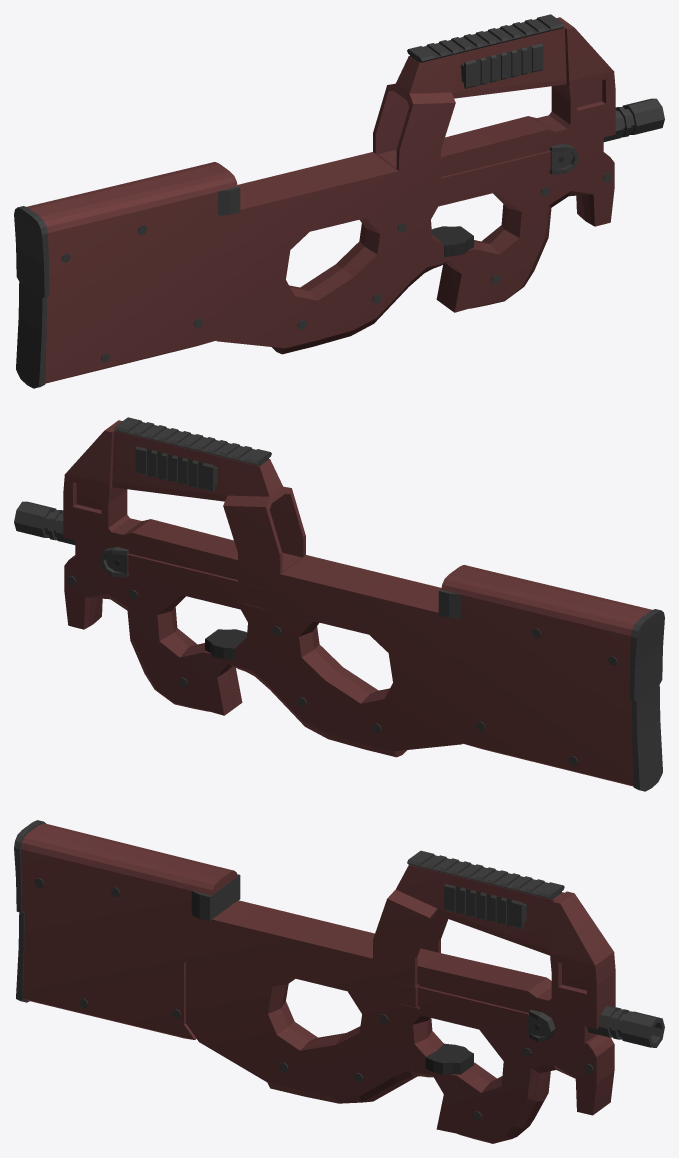
Rendered from SMG4_05.fbx.
The picture shows the model from 3 angles, top to bottom: view 1: azimuth 30°, elevation 25°; view 2: azimuth 150°, elevation 25°; view 3: azimuth 330°, elevation 25°; orthographic projection.
Visible parts, largest first — view 1: SMG4_05; view 2: SMG4_05; view 3: SMG4_05.
Boxes of the visible parts, <box> form: SMG4_05: <box>14,14,664,388</box>; SMG4_05: <box>14,417,664,791</box>; SMG4_05: <box>14,820,664,1143</box>.
Bounding box in the file's own units: 0.6062 × 0.244 × 0.0506.
